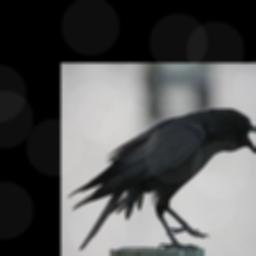Crow: (68, 107, 256, 253)
